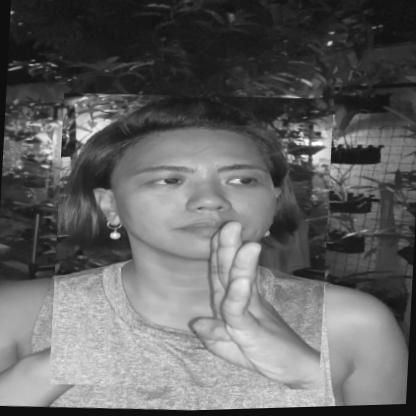Talk: (48, 86, 334, 398)
